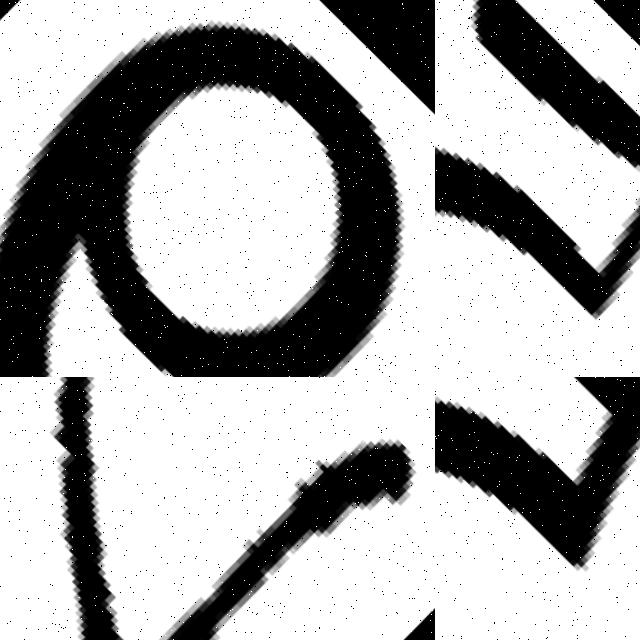5: (435, 0, 640, 377), (435, 377, 640, 640)
9: (0, 0, 435, 377)
V: (141, 427, 410, 640), (47, 377, 110, 640)
